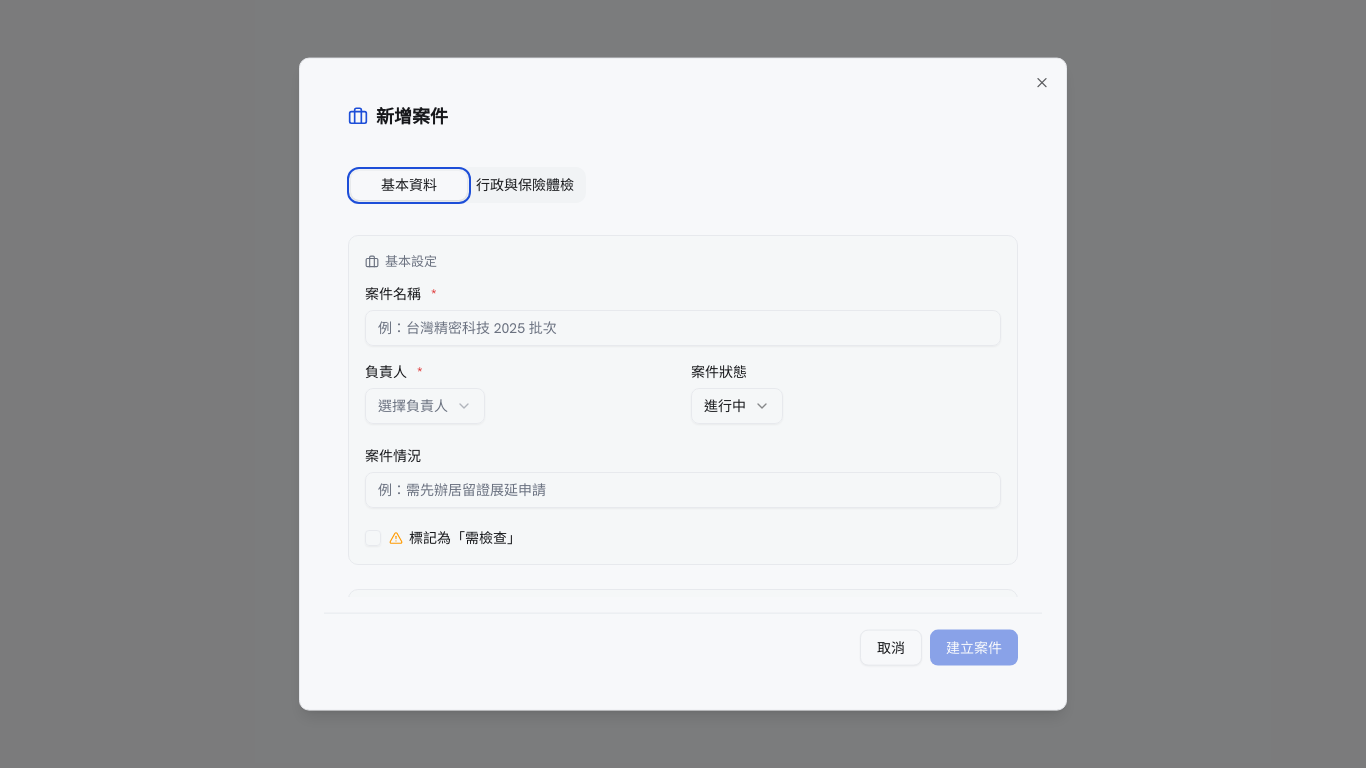
Test: CaseModal 的必填判斷 › 填了名稱後，缺少清單只剩負責人與雇主
The width and height of the screenshot is (1366, 768).
Type "台灣精密 2026 批次" into the field with placeholder "例：台灣精密科技 2025 批次".
click(683, 327); type("台灣精密 2026 批次")  # box [365,309,1001,345]
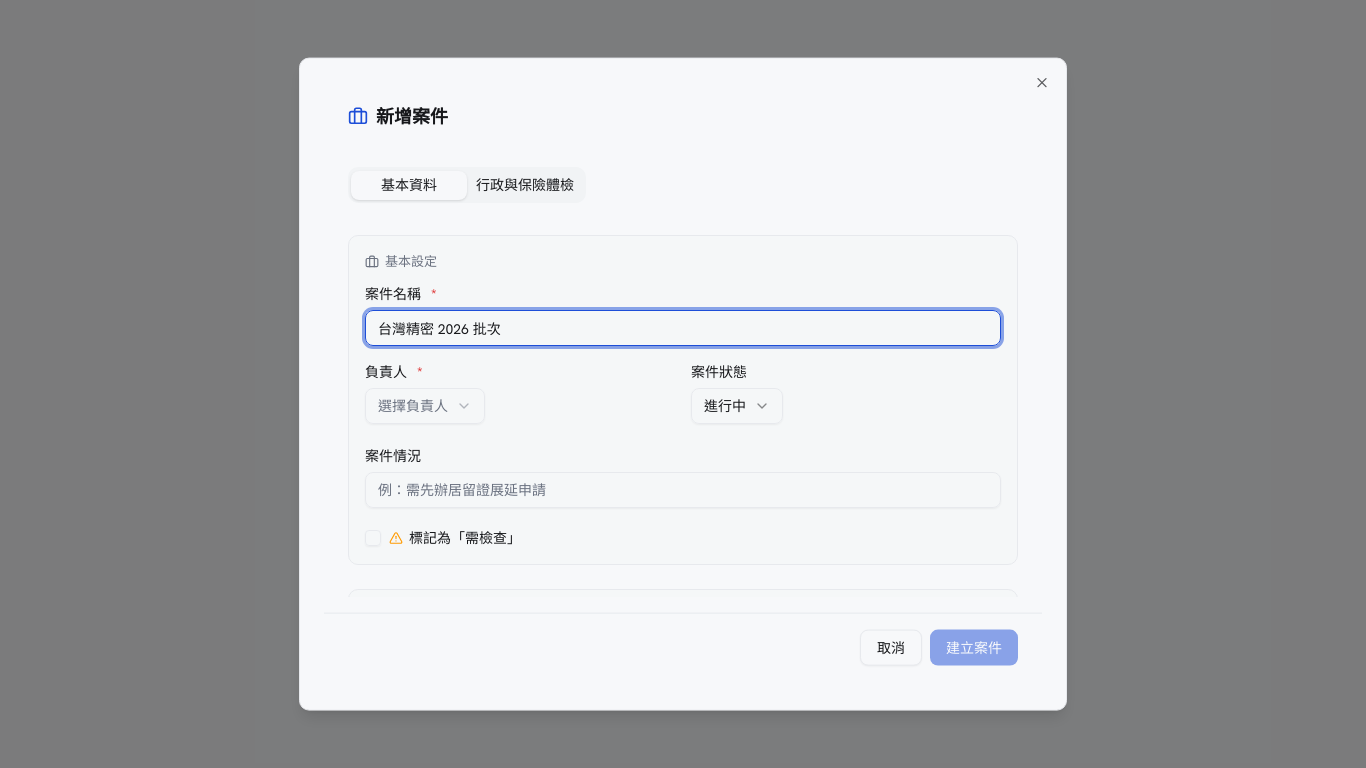
Hover over the element with test id "case-modal-submit-wrap".
mouse_move(974, 647)  # box [930,629,1018,665]
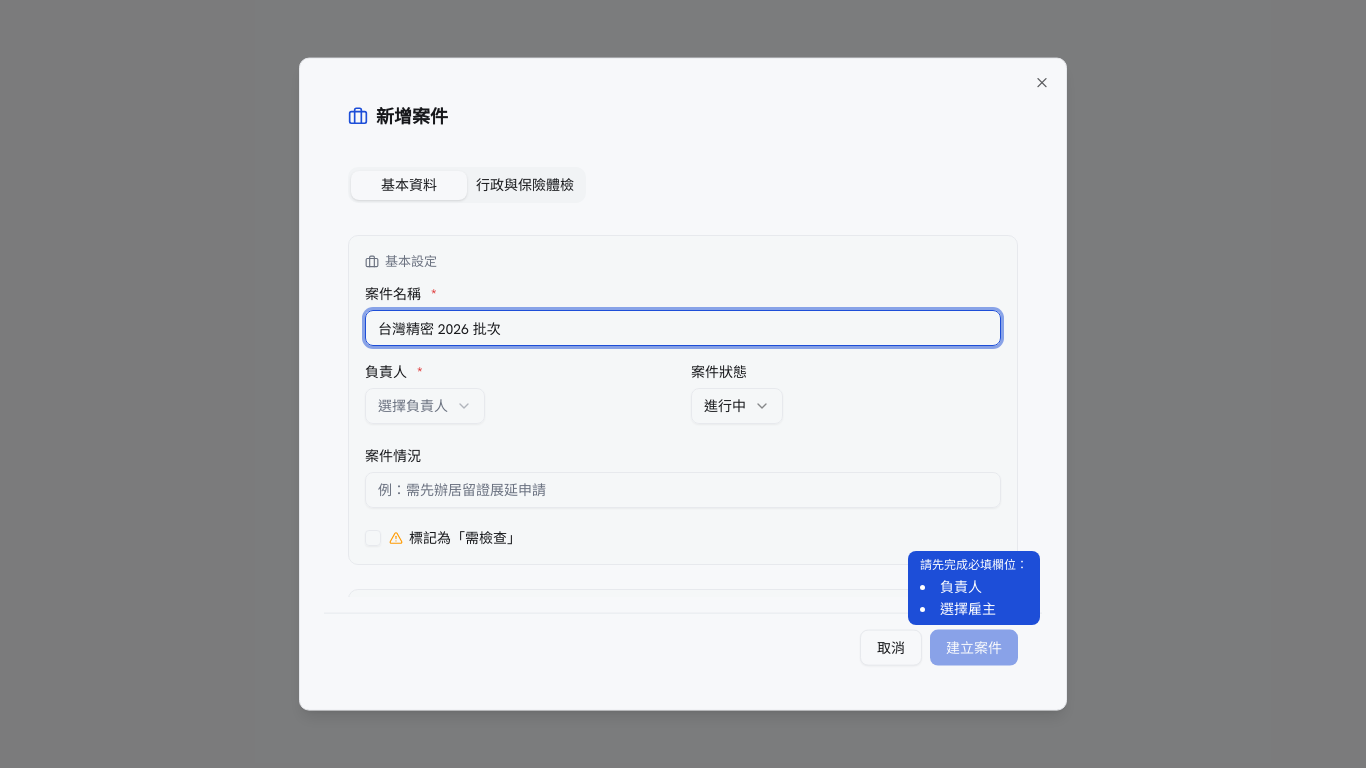
Expected: the tooltip does not show "案件名稱", [908,551,1040,625]
Result: the tooltip shows "負責人" at [940,578,982,596]
Result: the tooltip shows "選擇雇主" at [940,600,996,618]
